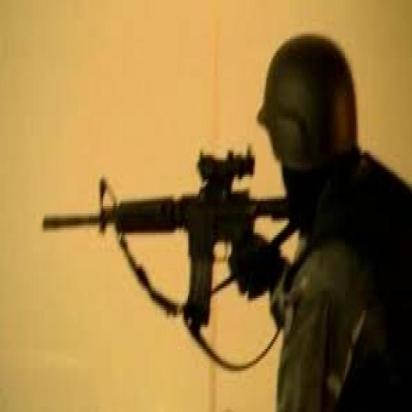Gun: (41, 148, 290, 336)
